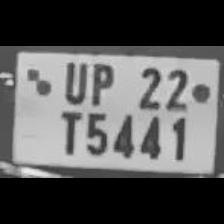1: (164, 110, 190, 162)
2: (133, 62, 163, 110), (162, 64, 188, 112)
4: (135, 108, 163, 160), (108, 108, 135, 158)
5: (80, 107, 108, 155)
P: (86, 59, 116, 107)
T: (52, 106, 82, 156)
U: (58, 56, 88, 104)
